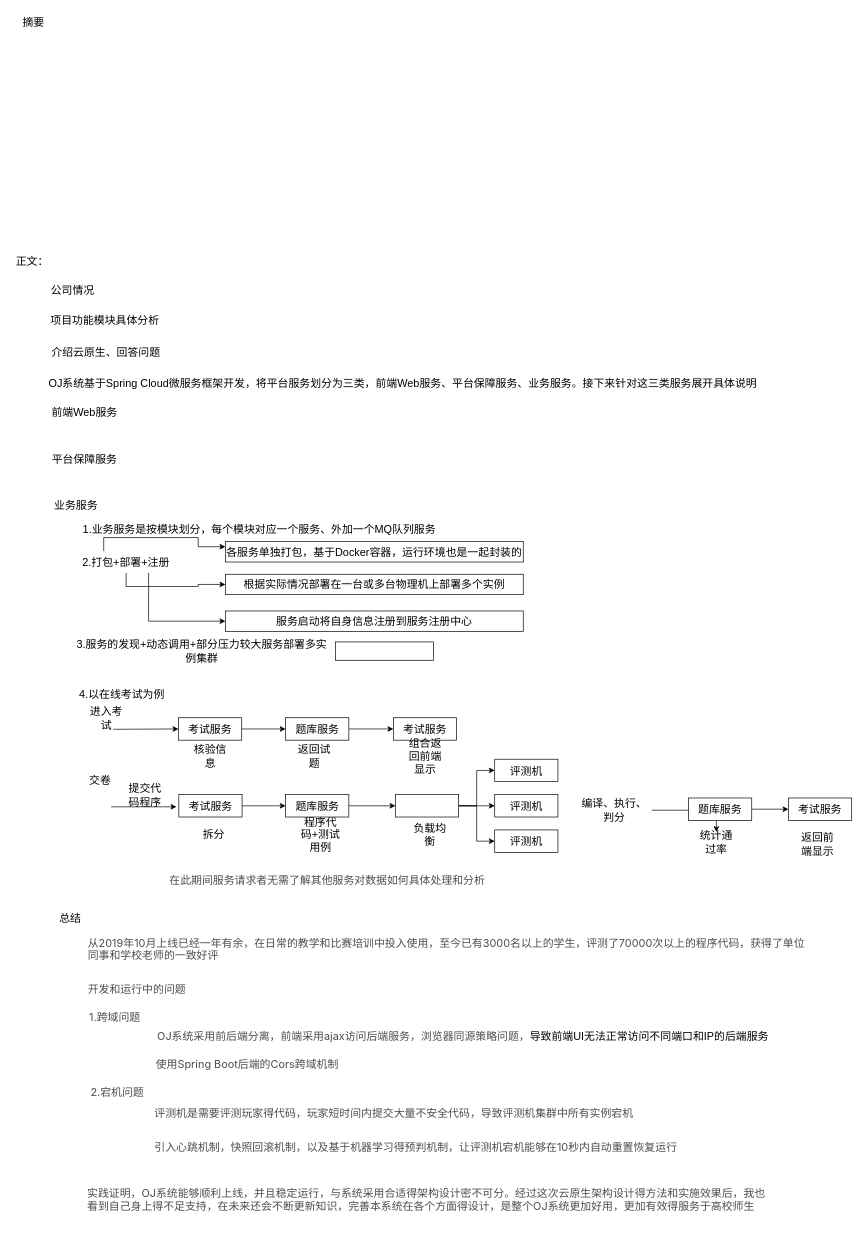
The diagram is 864 pixels wide and 1242 high, and some of its shapes have lost their labels. The box of each missing label's shape, as (x1, y1, x2, y2) in pixels:
MQ队列: (395, 794, 459, 817)
评测机，抄袭判定: (335, 641, 434, 660)
